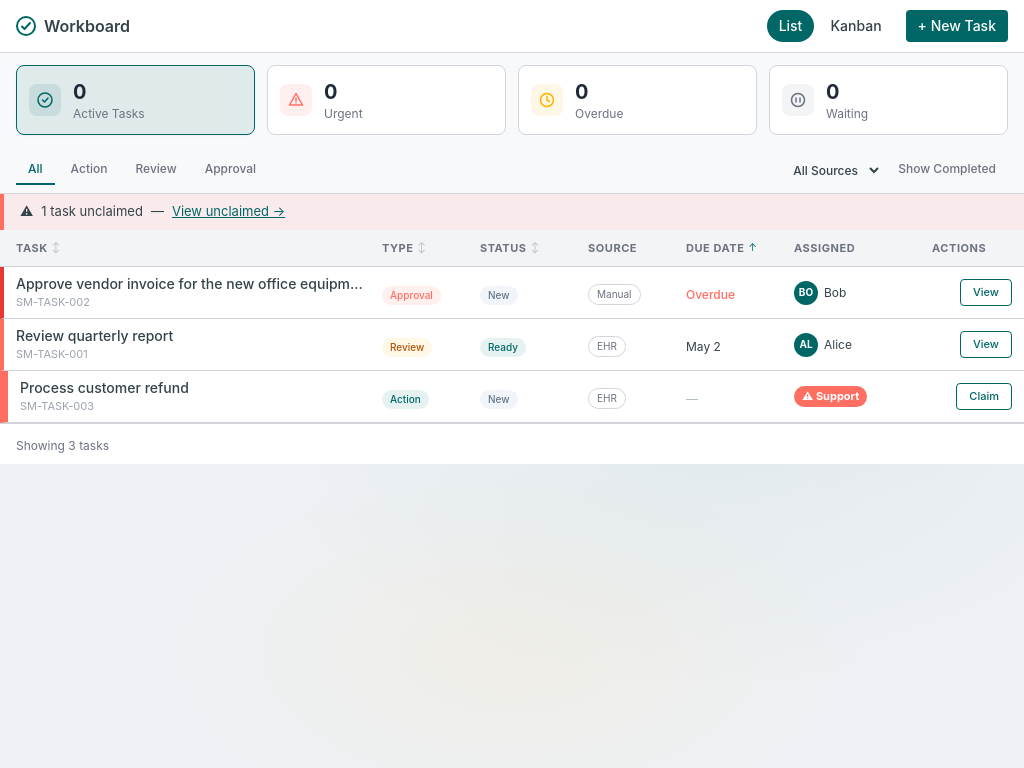
Test: WorkboardMojo › View button opens task drawer
The width and height of the screenshot is (1024, 768).
expect the number of elements with test id "task-row" is 3: met, box top-left (0, 267), bottom-right (1023, 319); top-left (0, 319), bottom-right (1023, 371); top-left (0, 371), bottom-right (1023, 423)
Click the button with test id "view-button" next to "Bob": x=986, y=293 top-left (960, 279), bottom-right (1012, 306)
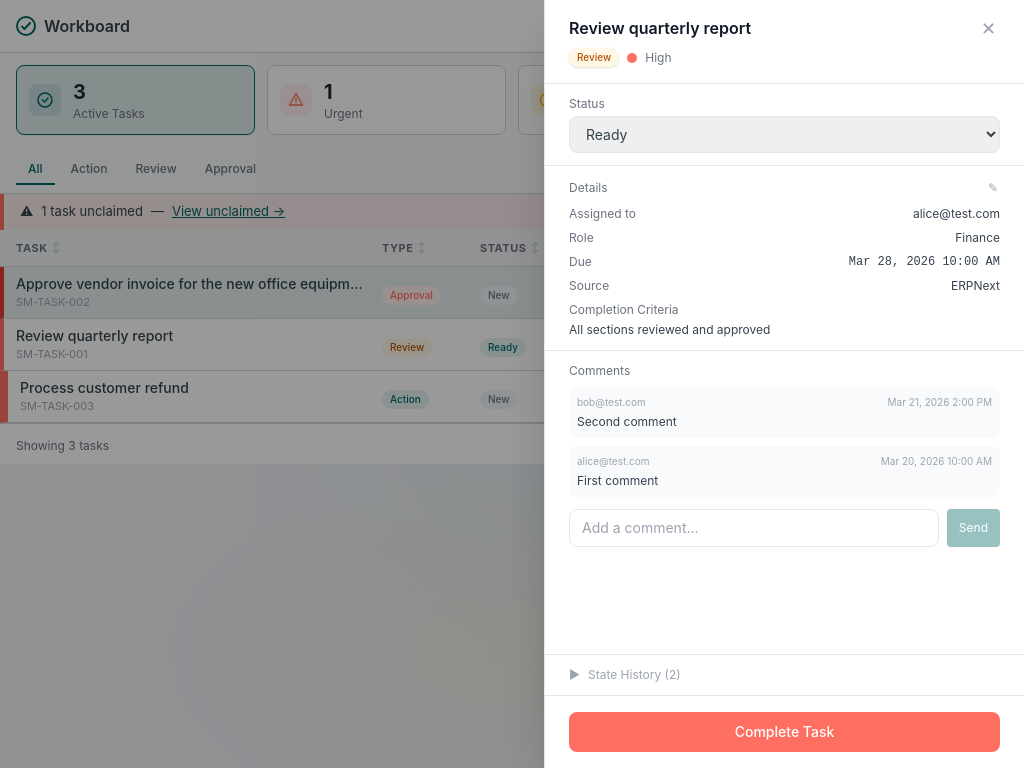
expect the element with test id "task-detail-drawer" is shown: met, box top-left (544, 0), bottom-right (1023, 767)
